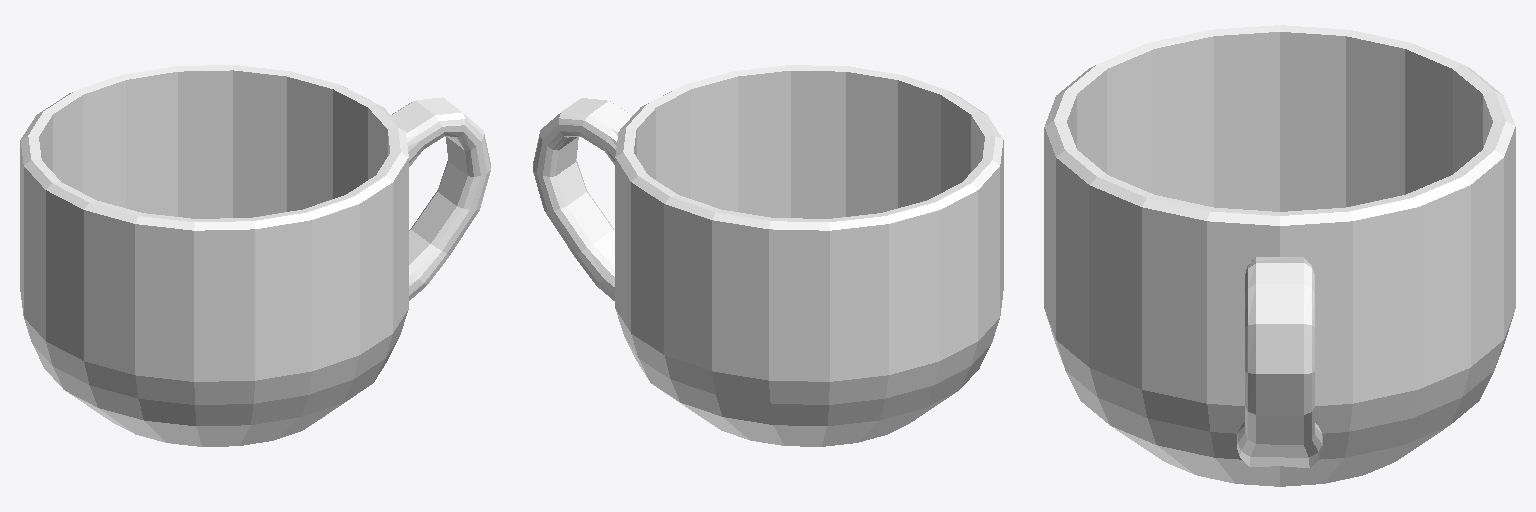
URDF robot description (white_large_cappuccino_mug):
<?xml version="1.0"?>
<robot name="white_large_cappuccino_mug">
  <link name="Non-Disposable Cup/Mug">
    <contact>
      <rolling_friction value="10"/>
      <spinning_friction value="10"/>
    </contact>
    <inertial>
      <origin rpy="0 0 0" xyz="0 0 0.042"/>
      <mass value="0"/>
      <inertia ixx="0" ixy="0" ixz="0" iyy="0" iyz="0" izz="0"/>
    </inertial>
    <visual>
      <origin rpy="0 0 0" xyz="0 0 0"/>
      <geometry>
        <mesh filename="white_large_cappuccino_mug.obj" scale="1 1 1"/>
      </geometry>
      <material name="white_large_cappuccino_mug.mtl">
        <color rgba="1 1 1 1"/>
      </material>
    </visual>
    <collision>
      <origin rpy="0 0 0" xyz="0 0 0"/>
      <geometry>
        <cdf filename="white_large_cappuccino_mug_collision.cdf" scale="1 1 1"/>
      </geometry>
    </collision>
  </link>
</robot>
                                                                                                    

--- Render facts (derived) ---
The picture shows the robot from 3 angles, left to right: view 1: azimuth 30°, elevation 25°; view 2: azimuth 150°, elevation 25°; view 3: azimuth 270°, elevation 25°; orthographic projection.
Robot: white_large_cappuccino_mug — 1 links, 0 joints (none); root link Non-Disposable Cup/Mug; default pose: all joints at 0.
Links seen in each view (by area): view 1: Non-Disposable Cup/Mug; view 2: Non-Disposable Cup/Mug; view 3: Non-Disposable Cup/Mug.
Boxes of the visible links, x1,y1,x2,y2 form: Non-Disposable Cup/Mug: (20,65,490,446); Non-Disposable Cup/Mug: (533,65,1003,446); Non-Disposable Cup/Mug: (1044,25,1515,486).
Size in the robot's own frame: 0.1633 by 0.1266 by 0.0907 metres.
Meshes: 1 distinct files referenced, 1 mesh visuals loaded (1 OBJ).